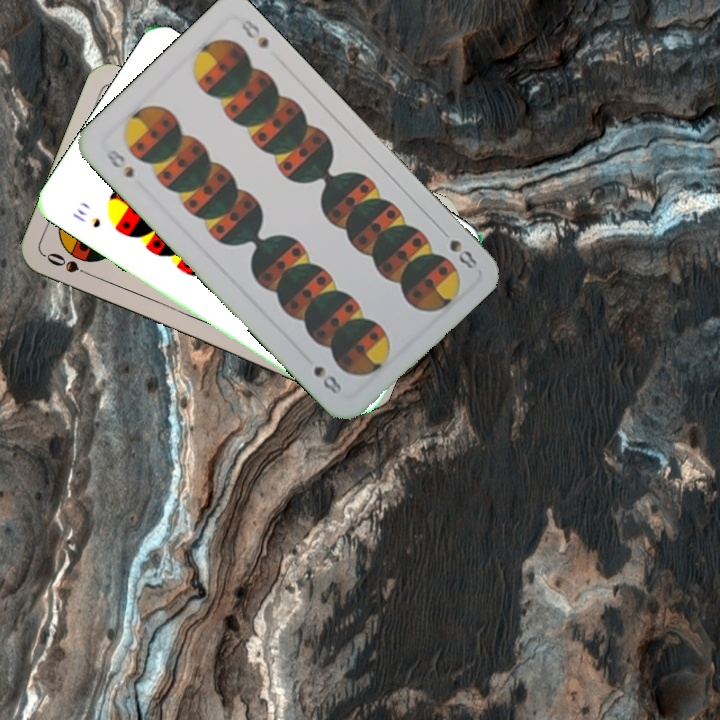S10: (68, 204, 104, 231)
S8: (445, 236, 483, 272), (101, 145, 137, 181)
SO: (42, 248, 98, 281)
